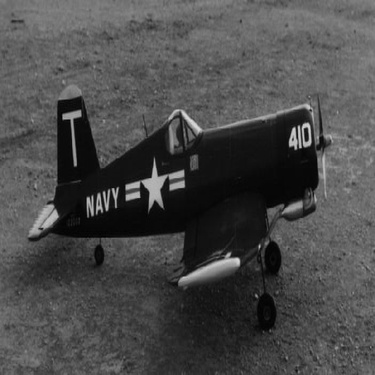airplane: (23, 61, 339, 338)
